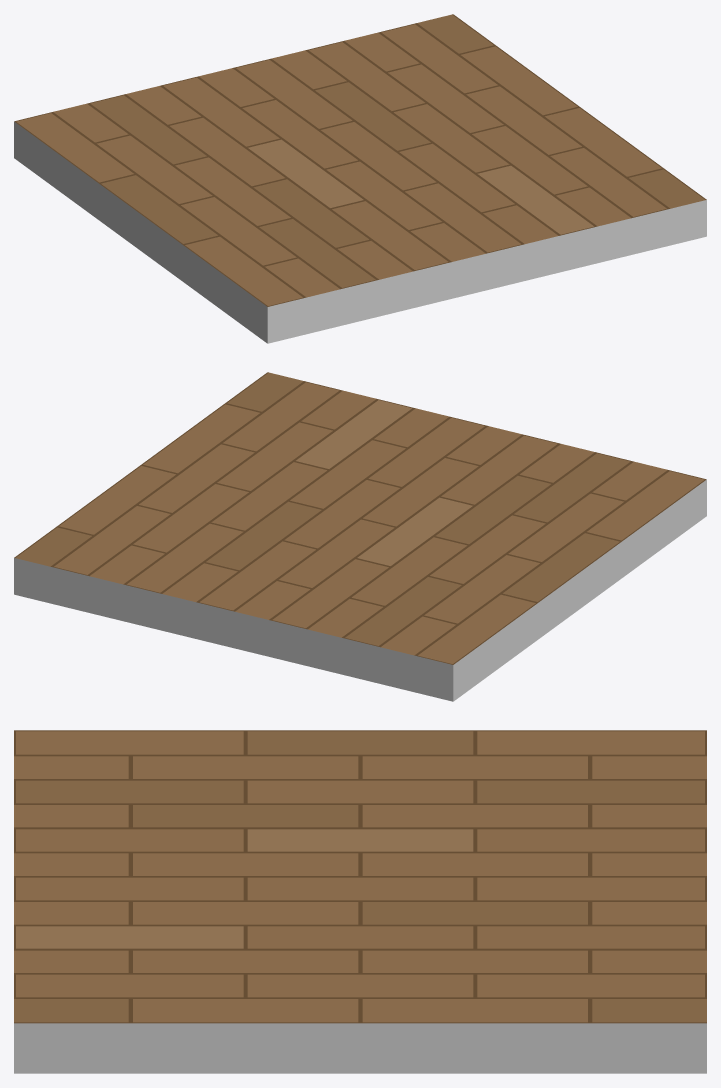
Rendered from Floor7_01.fbx.
The picture shows the model from 3 angles, top to bottom: view 1: azimuth 30°, elevation 25°; view 2: azimuth 150°, elevation 25°; view 3: azimuth 270°, elevation 25°; orthographic projection. The views are drawn at different scales.
Parts seen in each view (by area): view 1: Floor7_01; view 2: Floor7_01; view 3: Floor7_01.
Part boxes in pixels (box(x1,y1,x2,y2)): Floor7_01: box(14, 14, 706, 343); Floor7_01: box(14, 372, 706, 701); Floor7_01: box(14, 730, 706, 1073).
Bounding box in the file's own units: 250 × 20 × 250.
